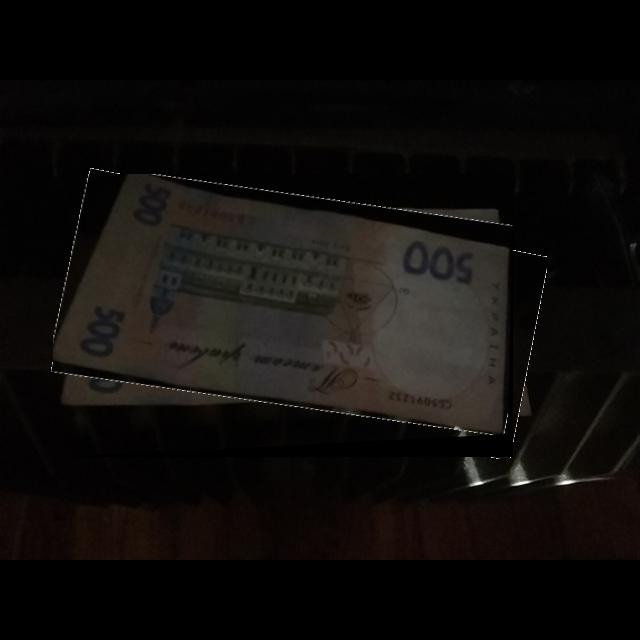500uah: (53, 174, 513, 440)
